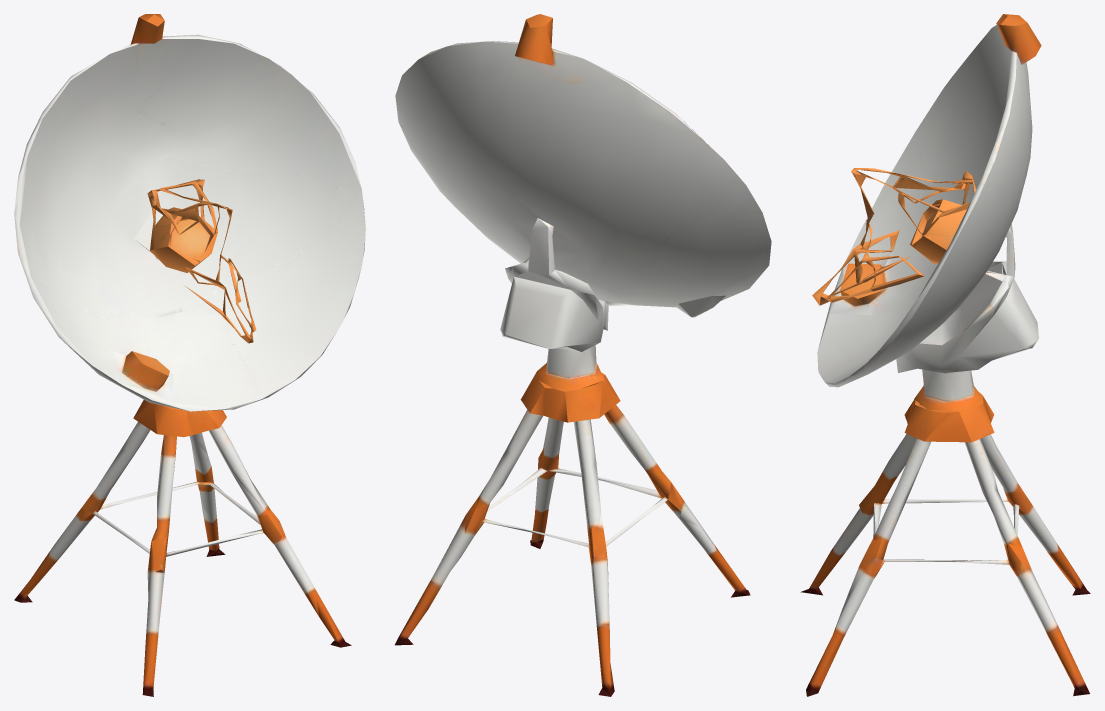
File: commsAntenna.glb
3 views of the same model, side by side, from view 1: azimuth 30°, elevation 25°; view 2: azimuth 150°, elevation 25°; view 3: azimuth 270°, elevation 25° (orthographic). The views are drawn at different scales.
Parts seen in each view (by area): view 1: model; view 2: model; view 3: model.
Part boxes in pixels (x1,y1,x2,y2): model: [14, 14, 365, 696]; model: [395, 14, 771, 696]; model: [800, 14, 1090, 696].
Size of the model in its own units: 1.15 by 1.9 by 0.7972.
Materials: 1 (1 with a texture image).
